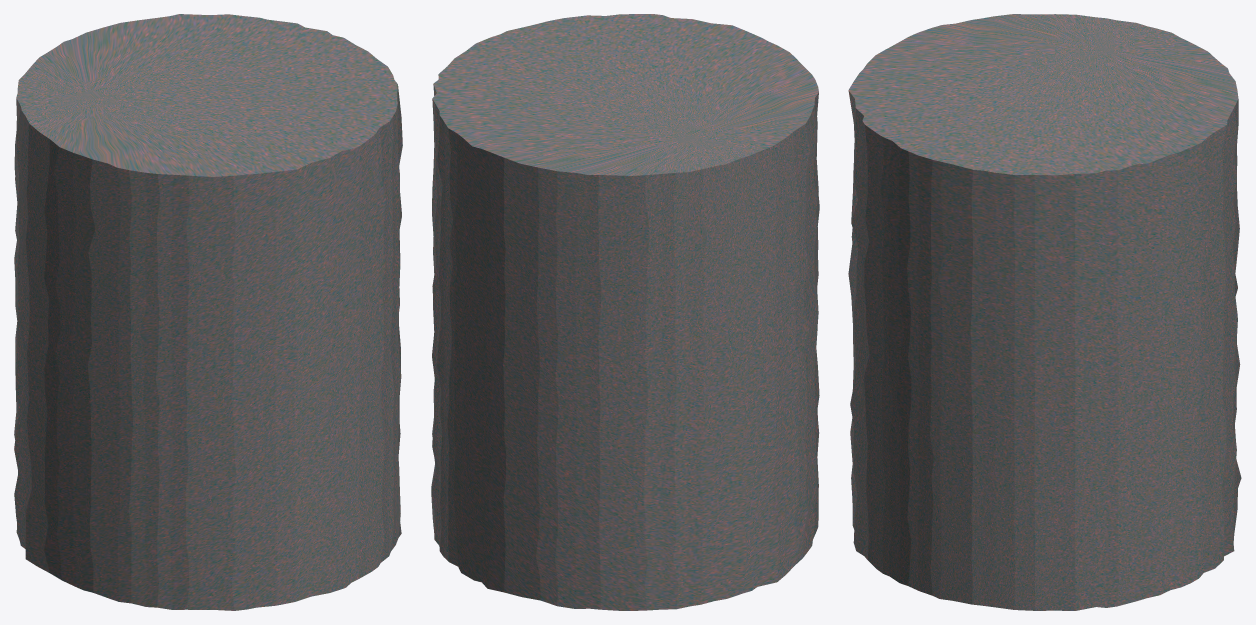
Rendered from barrel_14.dae.
The picture shows the model from 3 angles, left to right: view 1: azimuth 30°, elevation 25°; view 2: azimuth 150°, elevation 25°; view 3: azimuth 270°, elevation 25°; orthographic projection.
Visible parts, largest first — view 1: Cylinder; view 2: Cylinder; view 3: Cylinder.
Part boxes in pixels (x1,y1,x2,y2): Cylinder: (14,14,402,610); Cylinder: (431,14,819,610); Cylinder: (848,14,1241,610).
Size of the model in its own units: 0.8166 by 0.818 by 1.
Materials: 1 (1 with a texture image).
